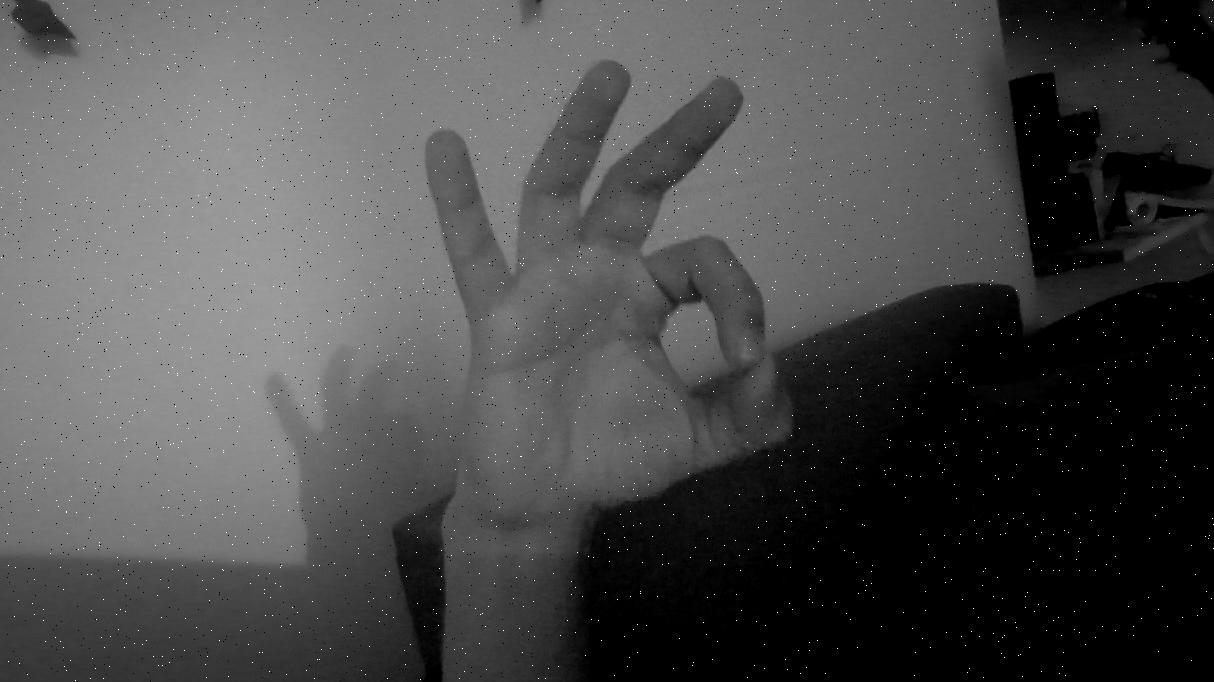zero: (405, 46, 805, 549)
